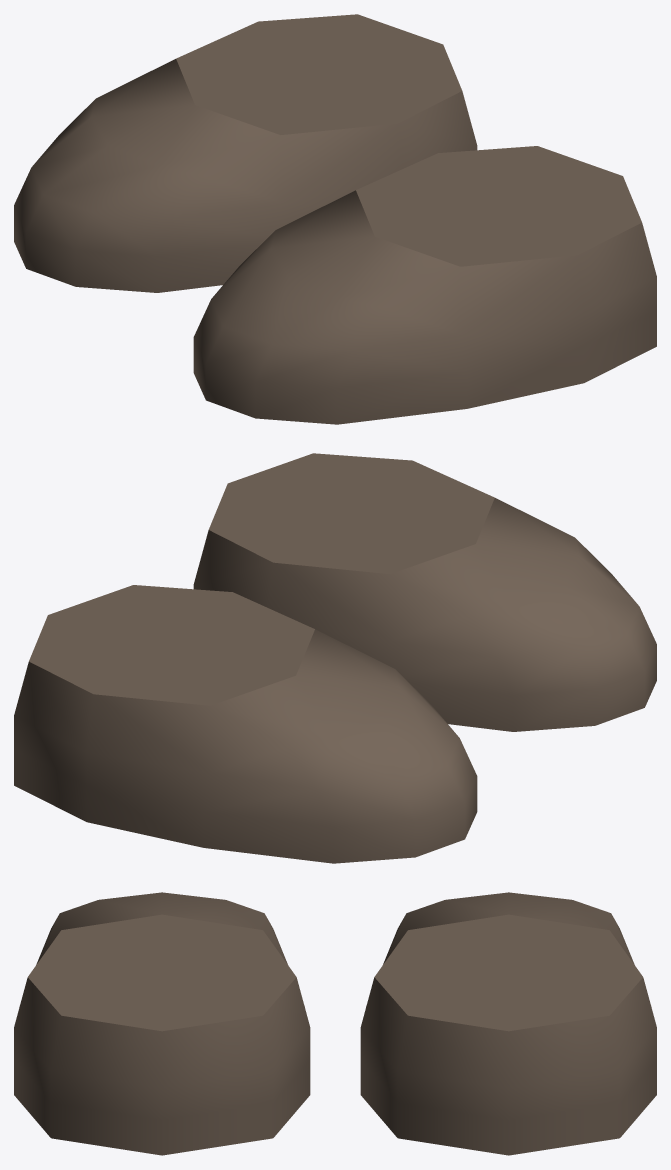
The model's file is bear_foot.fbx.
The picture shows the model from 3 angles, top to bottom: view 1: azimuth 30°, elevation 25°; view 2: azimuth 150°, elevation 25°; view 3: azimuth 270°, elevation 25°; orthographic projection. The views are drawn at different scales.
Visible parts, largest first — view 1: Cube.000; view 2: Cube.000; view 3: Cube.000.
Boxes of the visible parts, bbox=[...] form: Cube.000: bbox=[14, 14, 656, 424]; Cube.000: bbox=[14, 453, 656, 863]; Cube.000: bbox=[14, 892, 656, 1155].
Size of the model in its own units: 84.79 by 23.11 by 114.
